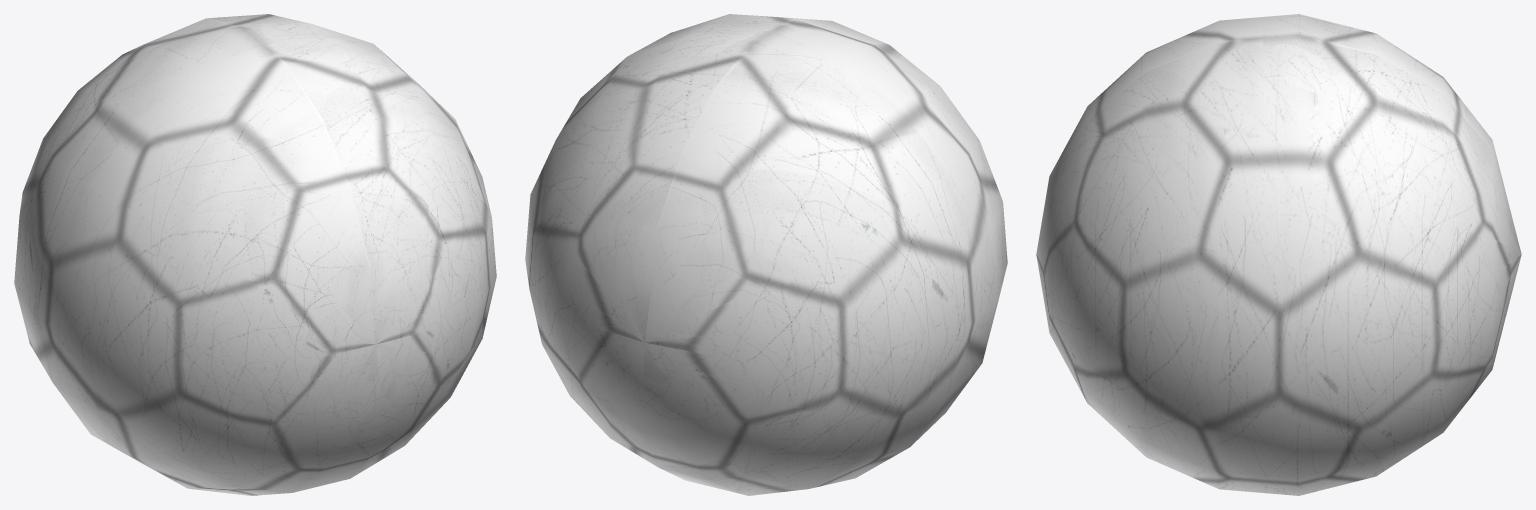
Rendered from Ball.FBX.
3 views of the same model, side by side, from view 1: azimuth 30°, elevation 25°; view 2: azimuth 150°, elevation 25°; view 3: azimuth 270°, elevation 25° (orthographic).
Visible parts, largest first — view 1: Ball; view 2: Ball; view 3: Ball.
Part boxes in pixels (x1=…): Ball: x1=14, y1=14, x2=496, y2=495; Ball: x1=525, y1=14, x2=1007, y2=495; Ball: x1=1036, y1=14, x2=1521, y2=495.
Bounding box in the file's own units: 22.35 × 22.28 × 22.51.
